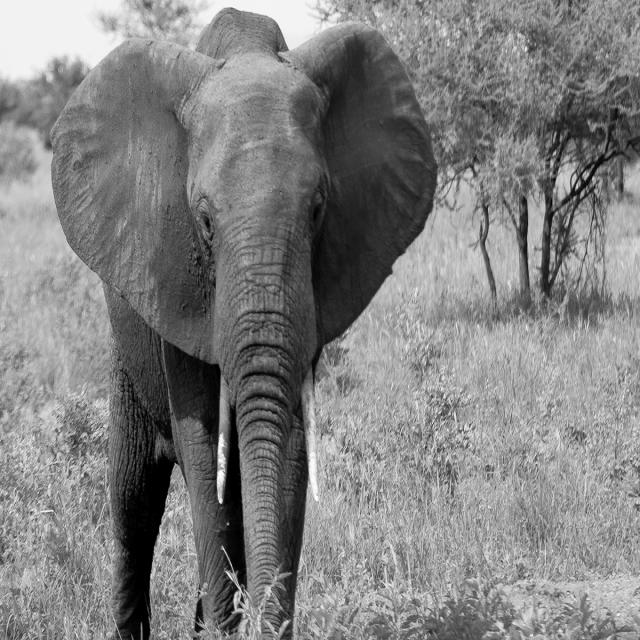Elephant: (48, 6, 438, 638)
